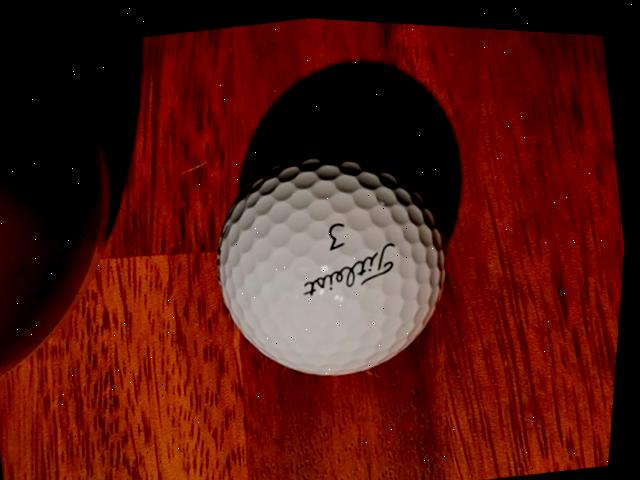Ball: (195, 115, 479, 397)
Titleist: (301, 233, 406, 298)
